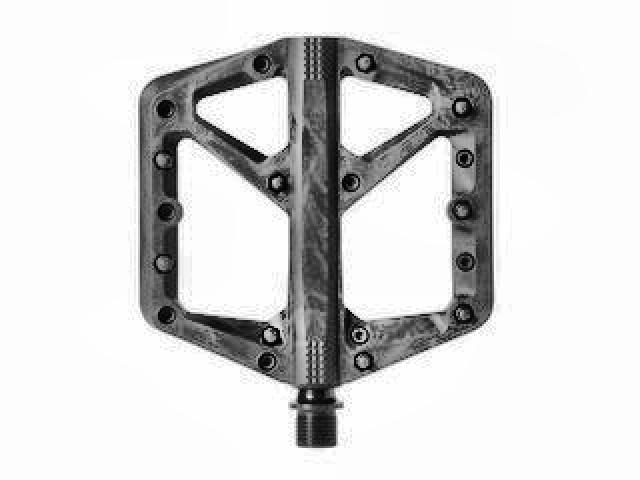pedal: (130, 33, 497, 460)
